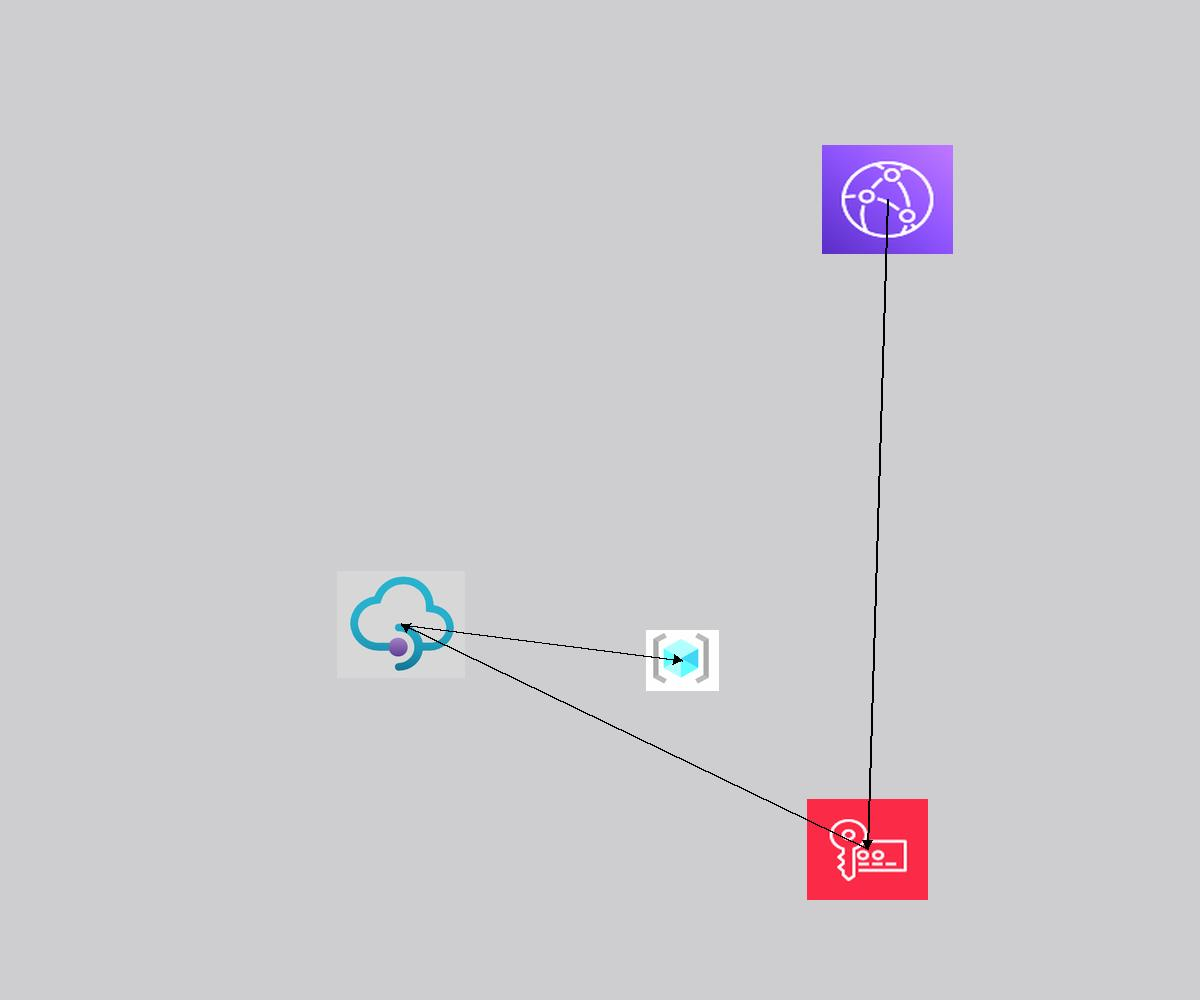AWS-CloudFront: (822, 145, 953, 254)
AWS-Key-Management-Service: (807, 799, 928, 900)
Azure_api_gateway: (337, 571, 465, 678)
Azure_resource_group: (646, 630, 719, 691)
